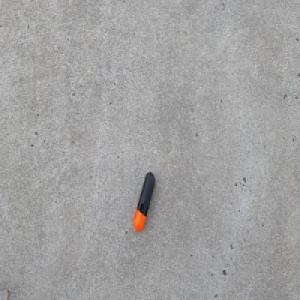PlasticPart: (132, 171, 155, 232)
